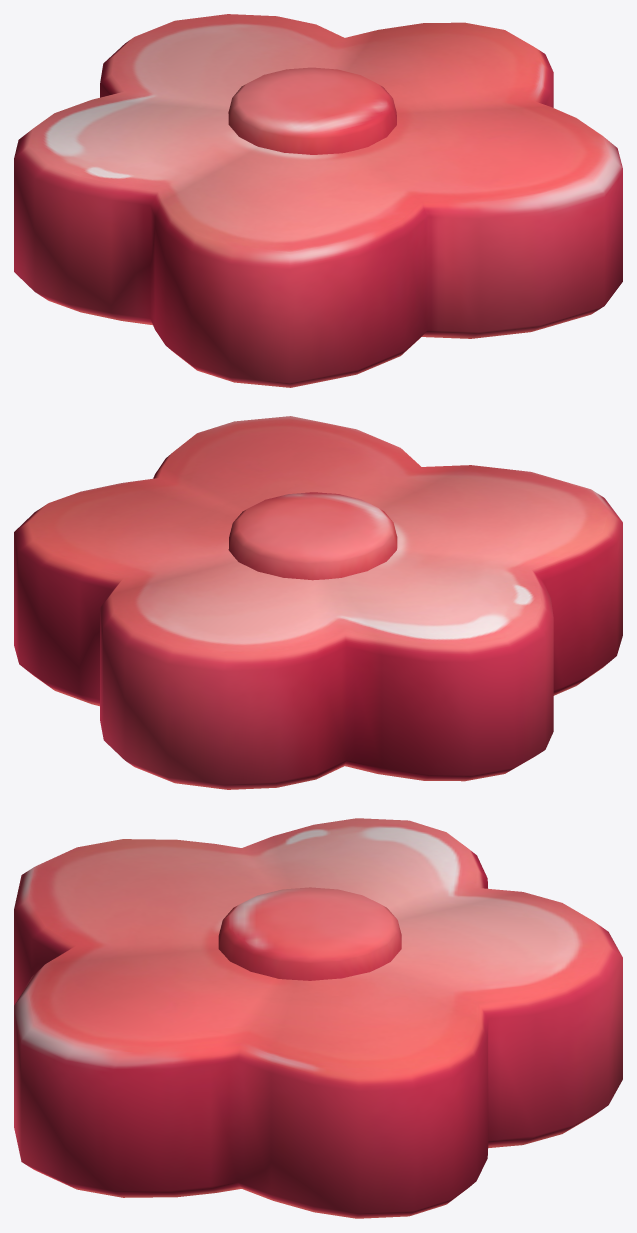
Rendered from 新糖果工厂-道具-糖果03.FBX.
3 renders of one model, top to bottom at view 1: azimuth 30°, elevation 25°; view 2: azimuth 150°, elevation 25°; view 3: azimuth 270°, elevation 25°, orthographic. The views are drawn at different scales.
Parts seen in each view (by area): view 1: 新糖果工厂-道具-糖果03; view 2: 新糖果工厂-道具-糖果03; view 3: 新糖果工厂-道具-糖果03.
Boxes of the visible parts, <box> form: 新糖果工厂-道具-糖果03: <box>14,14,622,387</box>; 新糖果工厂-道具-糖果03: <box>14,416,622,789</box>; 新糖果工厂-道具-糖果03: <box>14,818,622,1218</box>.
Bounding box in the file's own units: 7.79 × 2.38 × 7.48.
